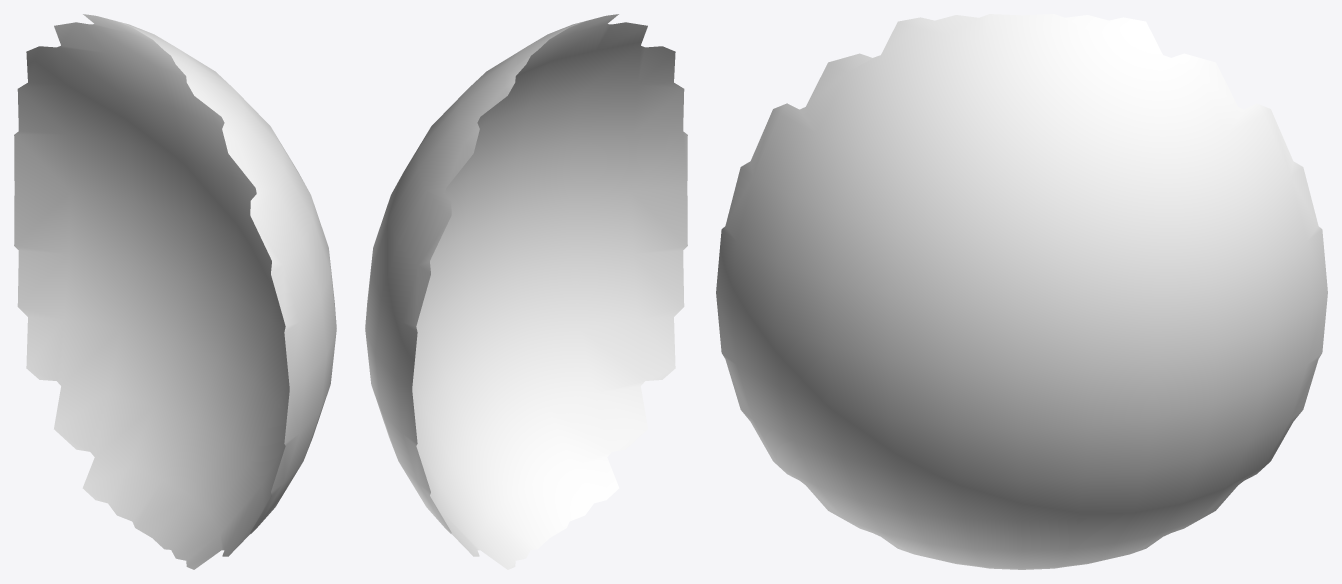
The model's file is shieldModel.FBX.
The picture shows the model from 3 angles, left to right: view 1: azimuth 30°, elevation 25°; view 2: azimuth 150°, elevation 25°; view 3: azimuth 270°, elevation 25°; orthographic projection. The views are drawn at different scales.
Visible parts, largest first — view 1: shieldModel; view 2: shieldModel; view 3: shieldModel.
Boxes of the visible parts, x1,y1,x2,y2 form: shieldModel: [14, 14, 336, 569]; shieldModel: [365, 14, 687, 569]; shieldModel: [716, 14, 1327, 569].
Bounding box in the file's own units: 24.82 × 75.38 × 75.38.
Materials: 1 (1 with a texture image).
